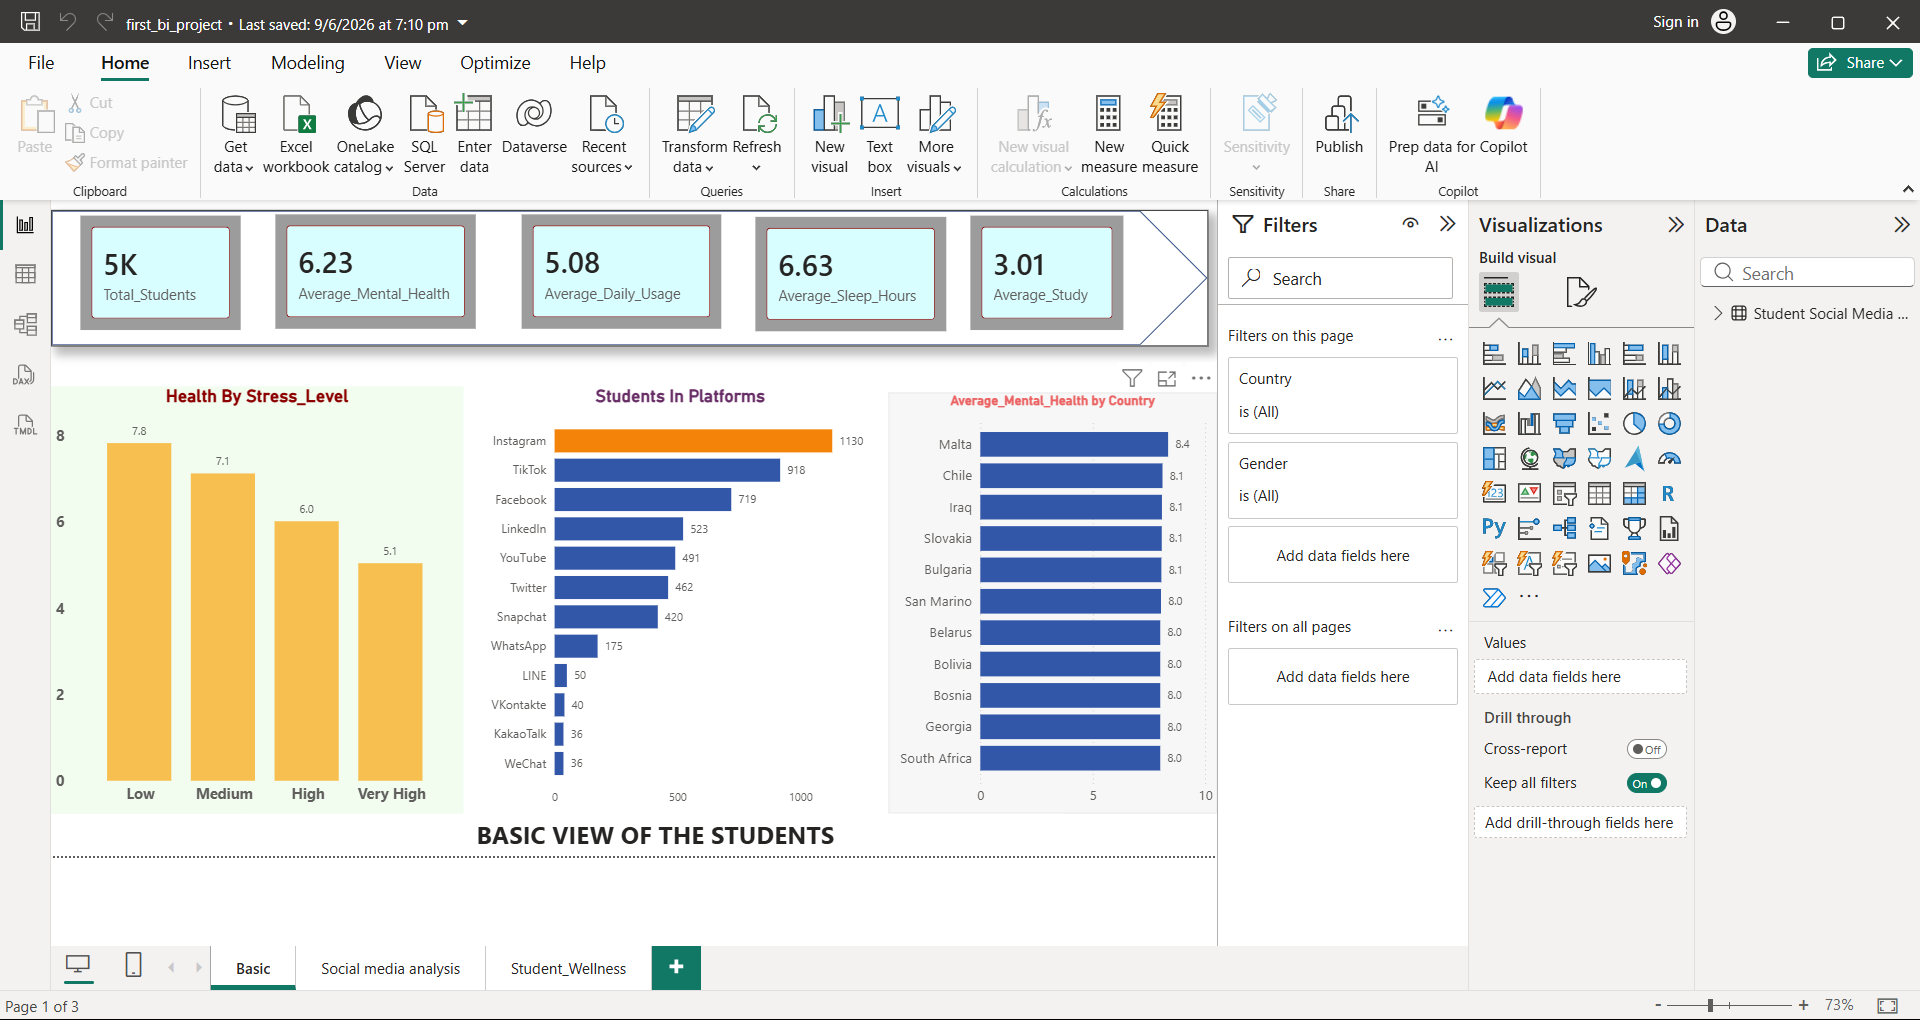

This screenshot's page, from the dashboard's own definition file:
{"tool":"powerbi","page":{"name":"Basic","canvas":[1280,720],"ordinal":0},"visuals":[{"type":"cardVisual","fields":{"Data":["Student Social Media And Mental Health Impact.Total_Students"]},"box":[27.4,12.3,186.6,135.8],"z":0},{"type":"cardVisual","fields":{"Data":["Student Social Media And Mental Health Impact.Average_Mental_Health"]},"box":[241.5,11,230.5,135.8],"z":1},{"type":"cardVisual","fields":{"Data":["Student Social Media And Mental Health Impact.Average_Daily_Usage"]},"box":[511.8,11,229.2,135.8],"z":2},{"type":"cardVisual","fields":{"Data":["Student Social Media And Mental Health Impact.Average_Sleep_Hours"]},"box":[768.4,13.7,219.6,135.8],"z":3},{"type":"cardVisual","fields":{"Data":["Student Social Media And Mental Health Impact.Average_Study"]},"box":[1004.5,12.3,178.4,135.8],"z":4},{"type":"shape","box":[0,11,1270.7,149.6],"z":5},{"type":"columnChart","title":"Health By Stress_Level","fields":{"Category":["Student Social Media And Mental Health Impact.Stress_Level"],"Y":["Student Social Media And Mental Health Impact.Average_Mental_Health"]},"box":[0,204.5,452.8,469.3],"z":6},{"type":"clusteredBarChart","title":"Students In Platforms","fields":{"Y":["Student Social Media And Mental Health Impact.Total_Students"],"Category":["Student Social Media And Mental Health Impact.Most_Used_Platform"]},"box":[472,204.5,437.7,469.3],"z":7},{"type":"clusteredBarChart","fields":{"Category":["Student Social Media And Mental Health Impact.Country"],"Y":["Student Social Media And Mental Health Impact.Average_Mental_Health"]},"box":[919.4,211.3,360.9,462.4],"z":8},{"type":"textbox","box":[214.1,673.8,898.8,45.3],"z":11}]}

Visuals, with their boxes on the page's 1280x720 design canvas (x1, y1, x2, y2). These are canvas units, not pixel positions in the 1920x1020 screenshot, which may show the page scaled, cropped or inside an application window:
cardVisual - Student Social Media And Mental Health Impact.Total_Students: crop(27, 12, 214, 148)
cardVisual - Student Social Media And Mental Health Impact.Average_Mental_Health: crop(242, 11, 472, 147)
cardVisual - Student Social Media And Mental Health Impact.Average_Daily_Usage: crop(512, 11, 741, 147)
cardVisual - Student Social Media And Mental Health Impact.Average_Sleep_Hours: crop(768, 14, 988, 150)
cardVisual - Student Social Media And Mental Health Impact.Average_Study: crop(1004, 12, 1183, 148)
shape: crop(0, 11, 1271, 161)
"Health By Stress_Level" columnChart: crop(0, 204, 453, 674)
"Students In Platforms" clusteredBarChart: crop(472, 204, 910, 674)
clusteredBarChart - Student Social Media And Mental Health Impact.Country x Student Social Media And Mental Health Impact.Average_Mental_Health: crop(919, 211, 1280, 674)
textbox: crop(214, 674, 1113, 719)
